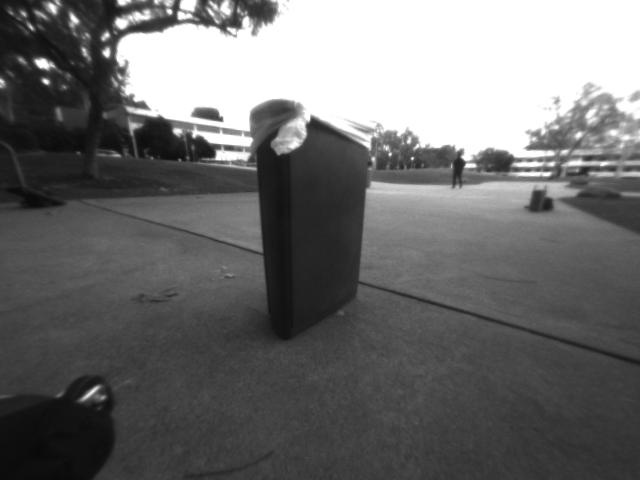trashcan_open: (243, 91, 383, 348)
